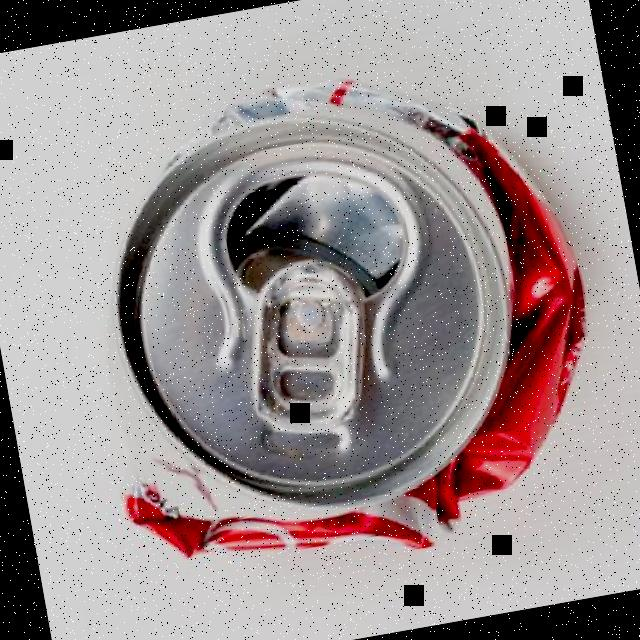can: (38, 5, 640, 621)
